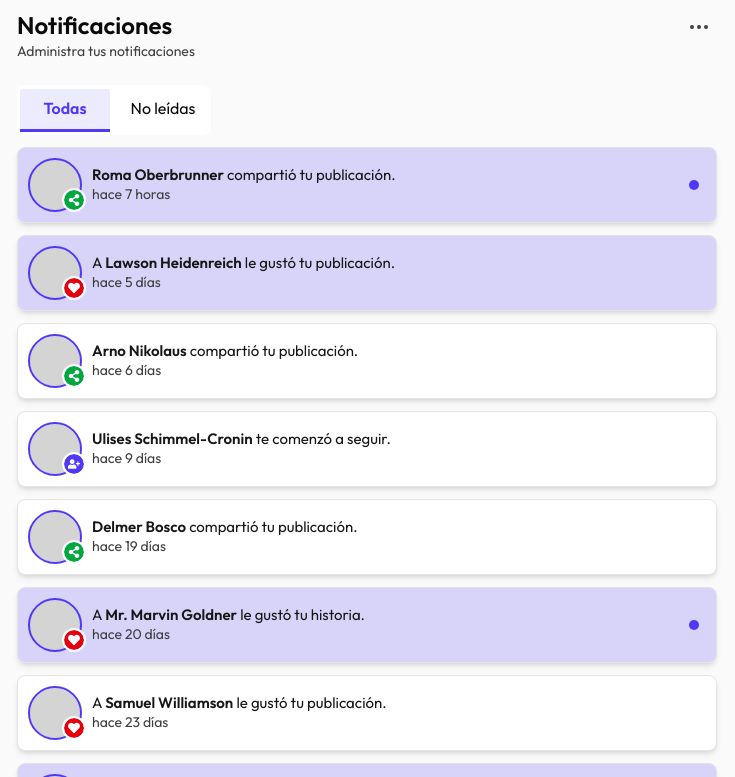
it: NotificationsPage › debe filtrar las notificaciones por 'todas' y 'no leídas'
The width and height of the screenshot is (735, 777).
Click the tab "No leídas".
click(163, 110)  # box [118,88,208,132]
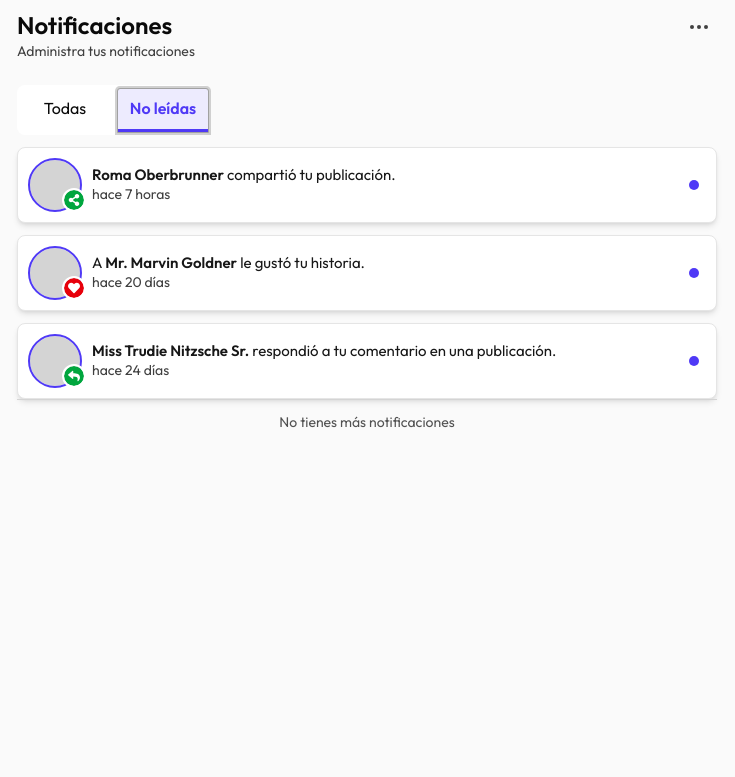
Expected: the number of elements with test id "notification-item" is 3, [17,147,717,223]; [17,235,717,311]; [17,323,717,399]
